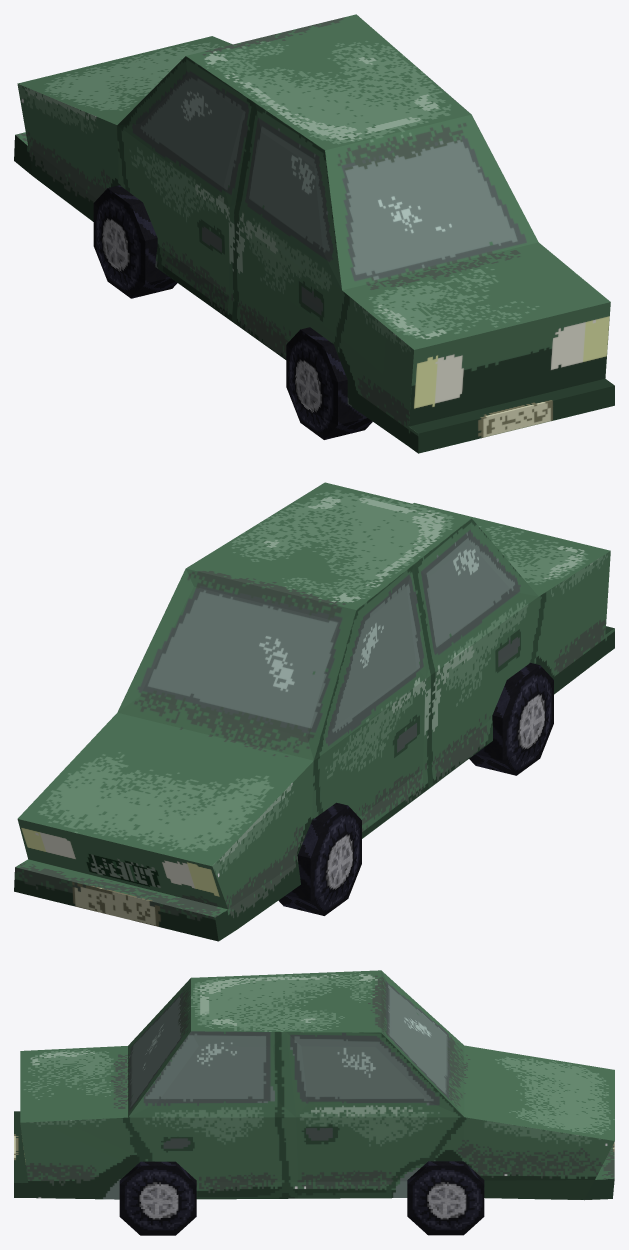
Rendered from car_green_1.fbx.
3 views of the same model, one above another, from view 1: azimuth 30°, elevation 25°; view 2: azimuth 150°, elevation 25°; view 3: azimuth 270°, elevation 25° (orthographic). The views are drawn at different scales.
Visible parts, largest first — view 1: auto zelene; view 2: auto zelene; view 3: auto zelene.
Boxes of the visible parts, x1,y1,x2,y2 form: auto zelene: (14,14,614,453); auto zelene: (14,482,614,941); auto zelene: (14,970,614,1235).
Bounding box in the file's own units: 139 × 154 × 430.
